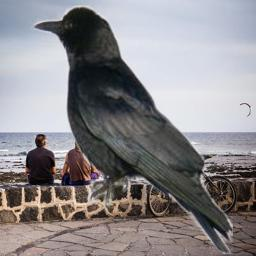Crow: (30, 5, 233, 254)
